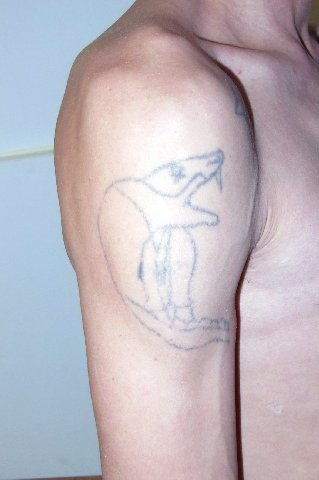tatu7_zmeya: (81, 135, 263, 386)
